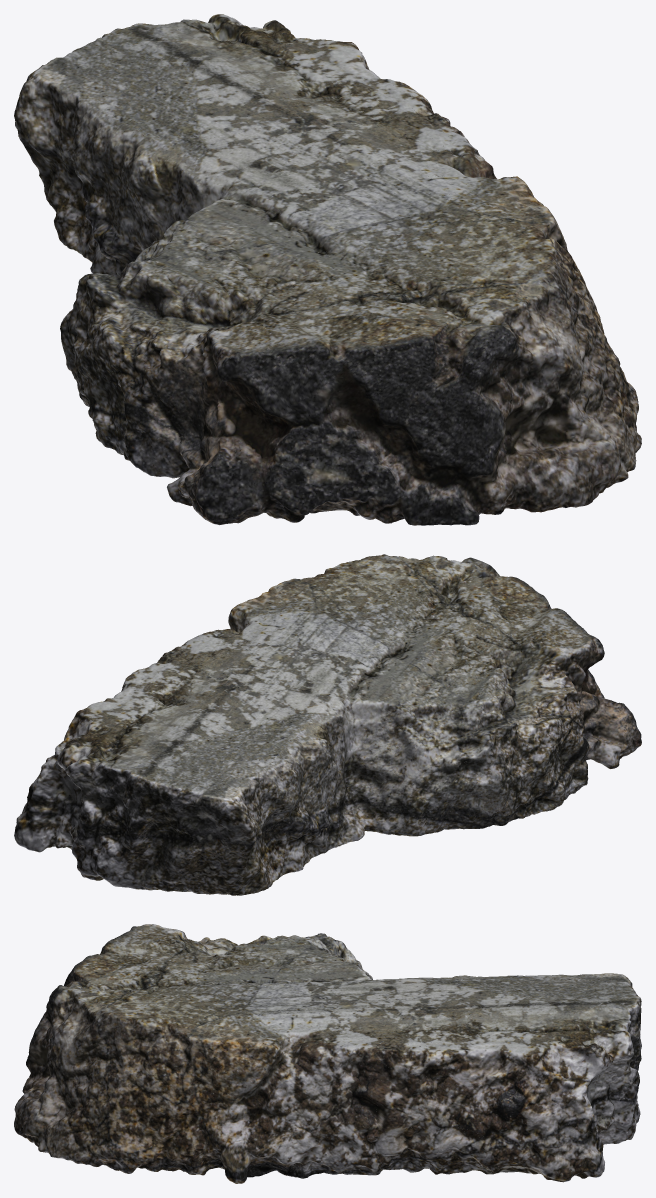
3 renders of one model, top to bottom at view 1: azimuth 30°, elevation 25°; view 2: azimuth 150°, elevation 25°; view 3: azimuth 270°, elevation 25°, orthographic. The views are drawn at different scales.
Parts seen in each view (by area): view 1: LAR12326-32_SFM_Web-Resolution-Model_Coordinate-Registered.o; view 2: LAR12326-32_SFM_Web-Resolution-Model_Coordinate-Registered.o; view 3: LAR12326-32_SFM_Web-Resolution-Model_Coordinate-Registered.o.
Part boxes in pixels (box(x1,y1,x2,y2)): LAR12326-32_SFM_Web-Resolution-Model_Coordinate-Registered.o: box(14, 14, 641, 525); LAR12326-32_SFM_Web-Resolution-Model_Coordinate-Registered.o: box(14, 554, 641, 895); LAR12326-32_SFM_Web-Resolution-Model_Coordinate-Registered.o: box(14, 924, 641, 1183).
Size of the model in its own units: 0.0388 by 0.0137 by 0.0595.
Materials: 1 (1 with a texture image).
